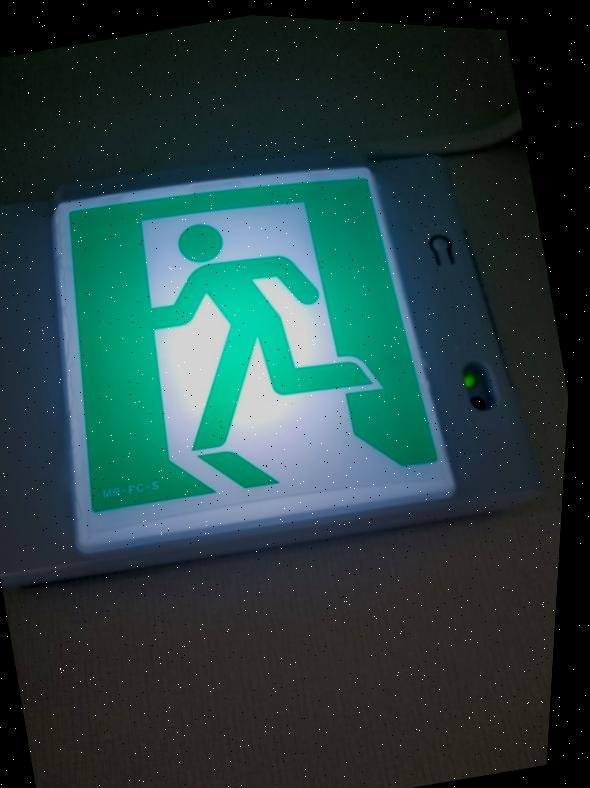emergency_exit: (51, 164, 458, 559)
